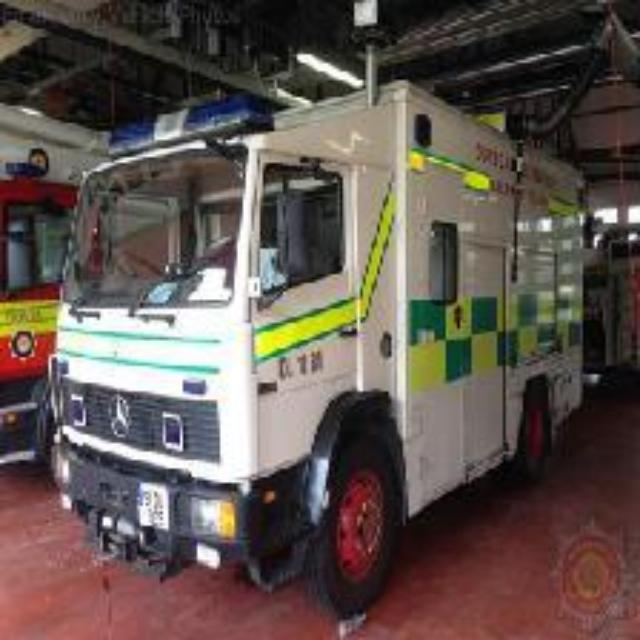emergency: (45, 89, 587, 591)
